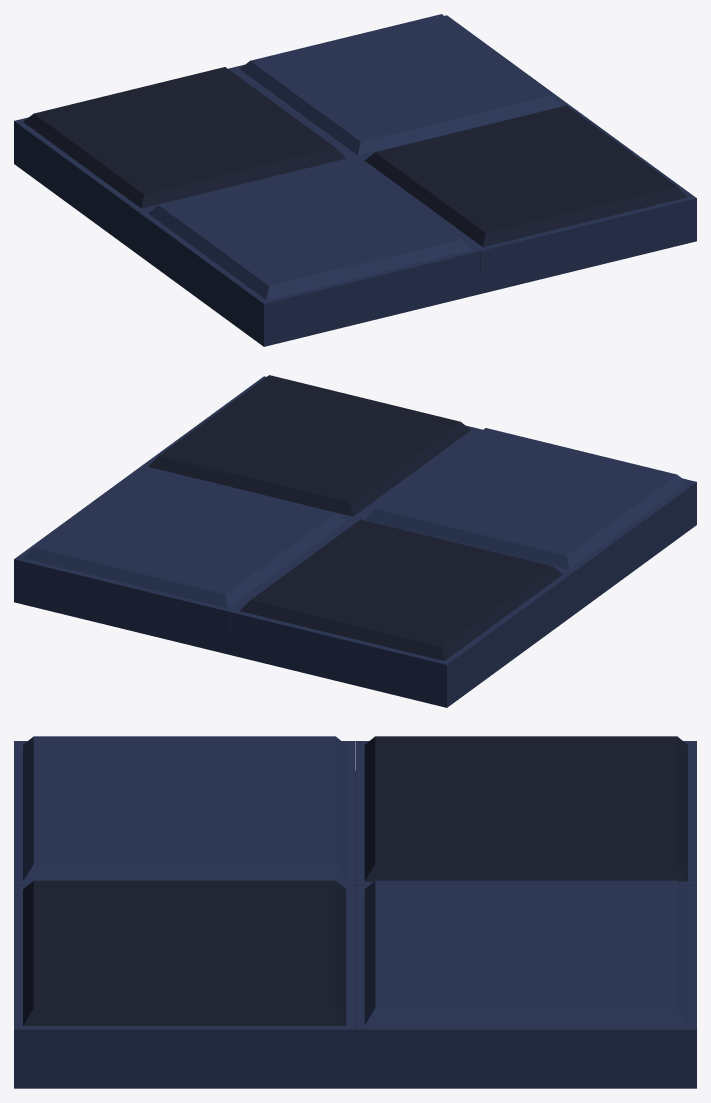
The model's file is floor.obj.
3 views of the same model, one above another, from view 1: azimuth 30°, elevation 25°; view 2: azimuth 150°, elevation 25°; view 3: azimuth 270°, elevation 25° (orthographic). The views are drawn at different scales.
Visible parts, largest first — view 1: floor.001; view 2: floor.001; view 3: floor.001.
Boxes of the visible parts, bbox=[...] form: floor.001: bbox=[14, 14, 696, 346]; floor.001: bbox=[14, 375, 696, 707]; floor.001: bbox=[14, 736, 696, 1088].
Size of the model in its own units: 2.11 by 0.2444 by 2.11.
